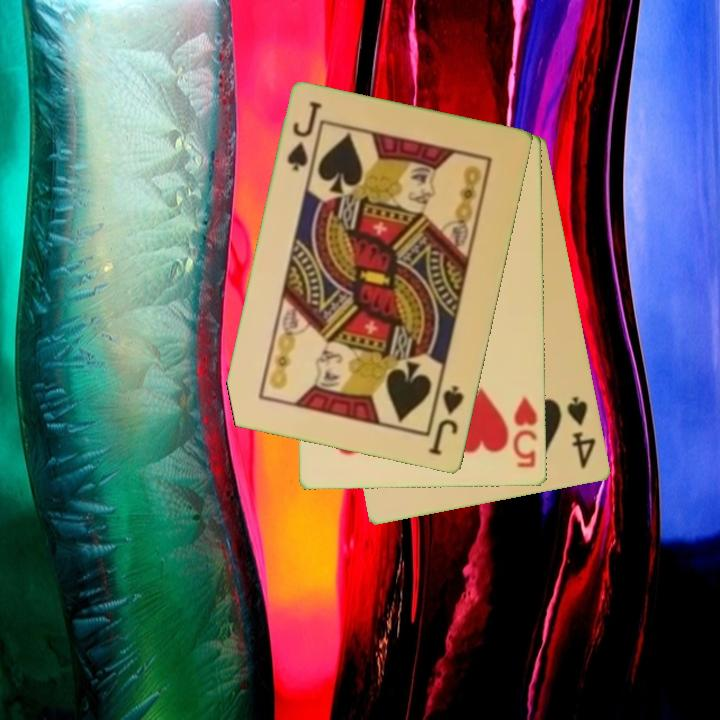4s: (563, 393, 599, 472)
5h: (510, 394, 541, 471)
Js: (284, 98, 326, 175), (426, 382, 467, 459)
